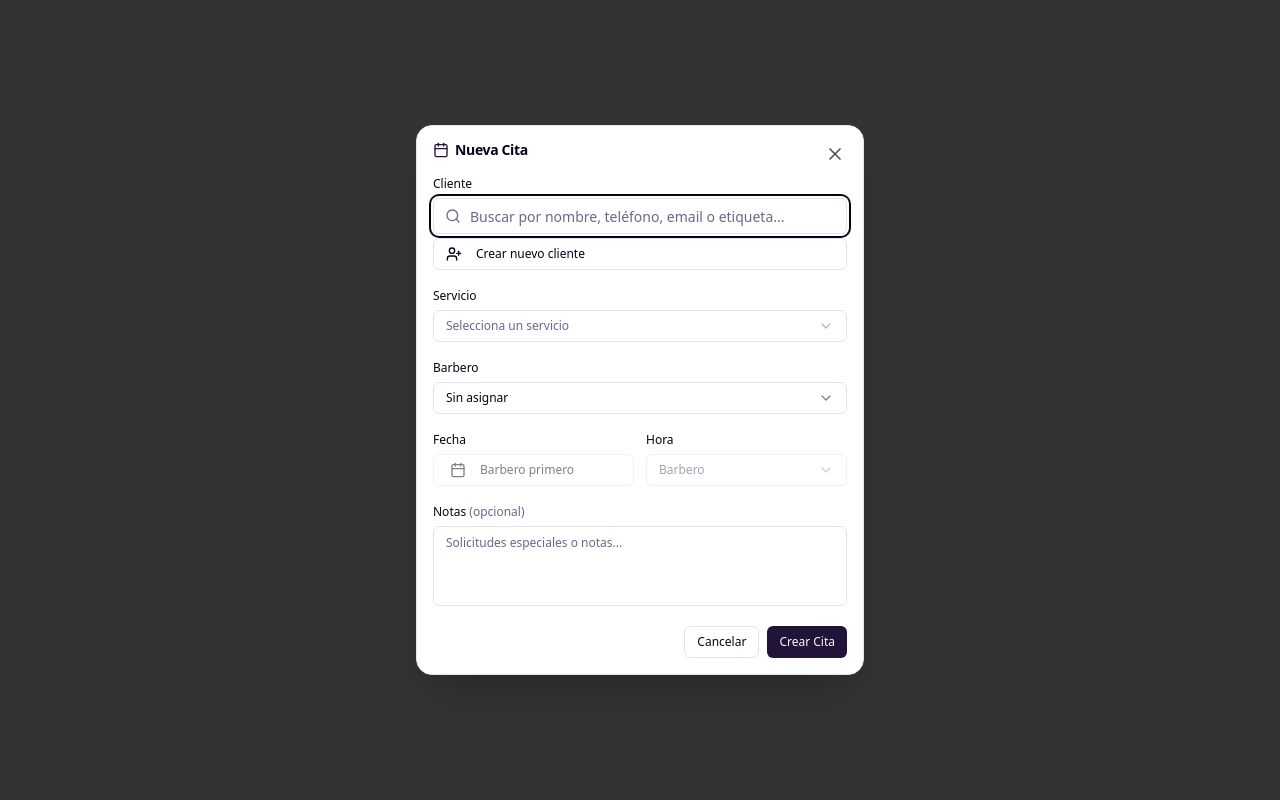
Test: BookingModal inline client creation › selects the existing client instead of creating a duplicate phone
Click the button "Crear nuevo cliente" at [530, 254], box [433,238,847,270]
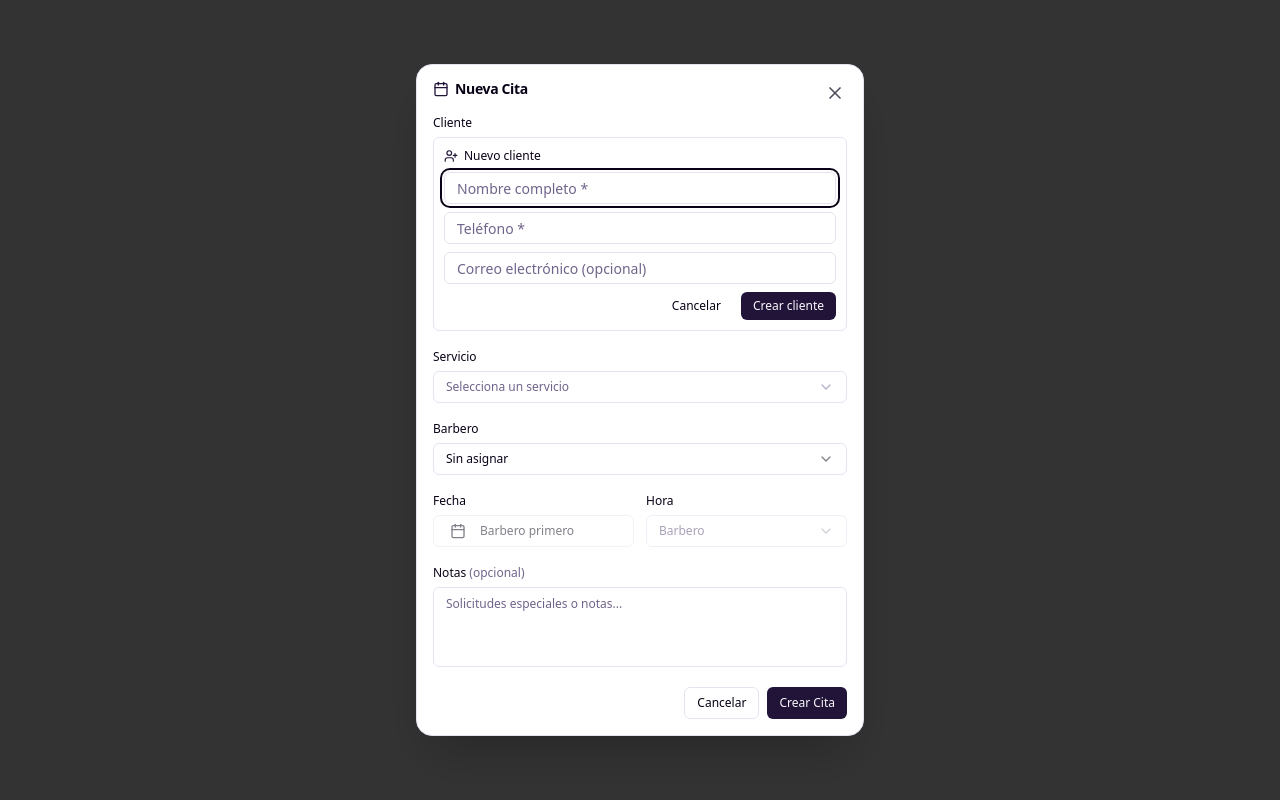
Type "Otro Miguel" into the field with placeholder "Nombre completo *" at [640, 188], box [444,172,836,204]
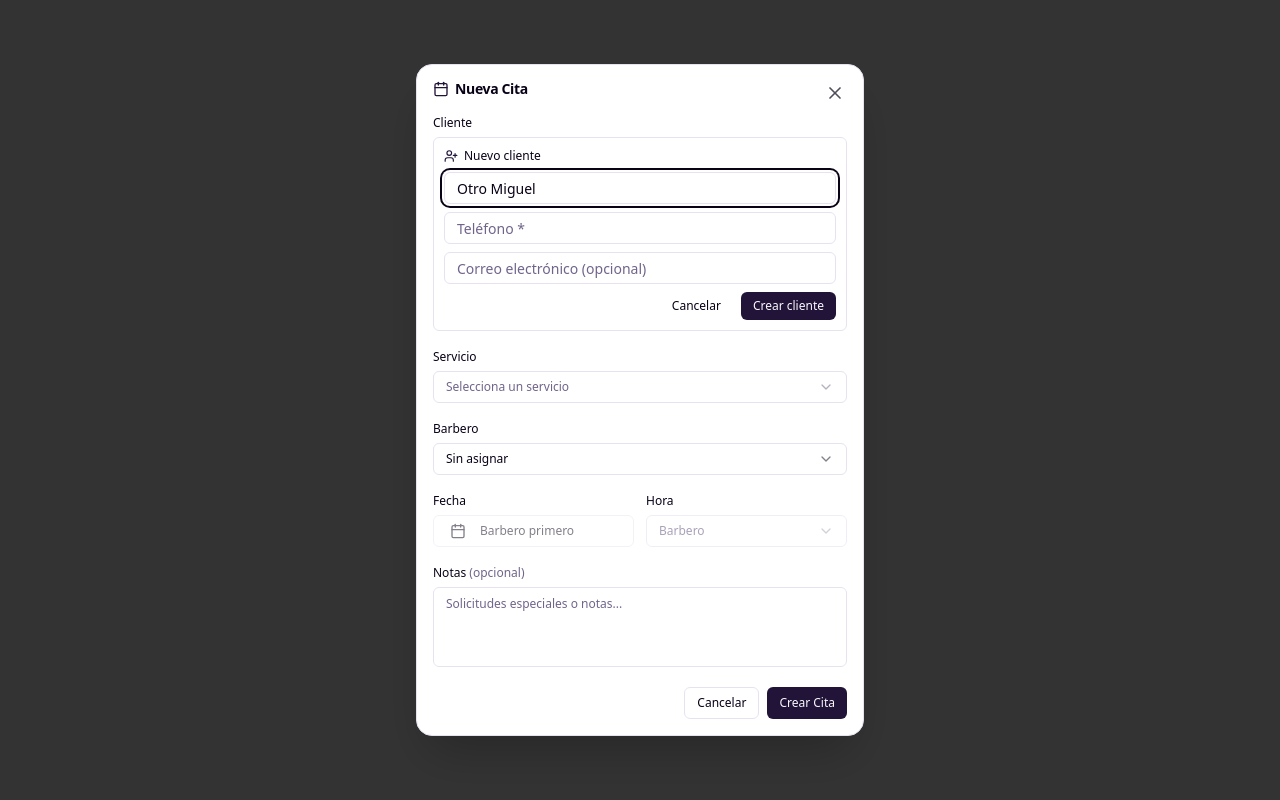
Type "615 481 969" into the field with placeholder "Teléfono *" at [640, 228], box [444,212,836,244]
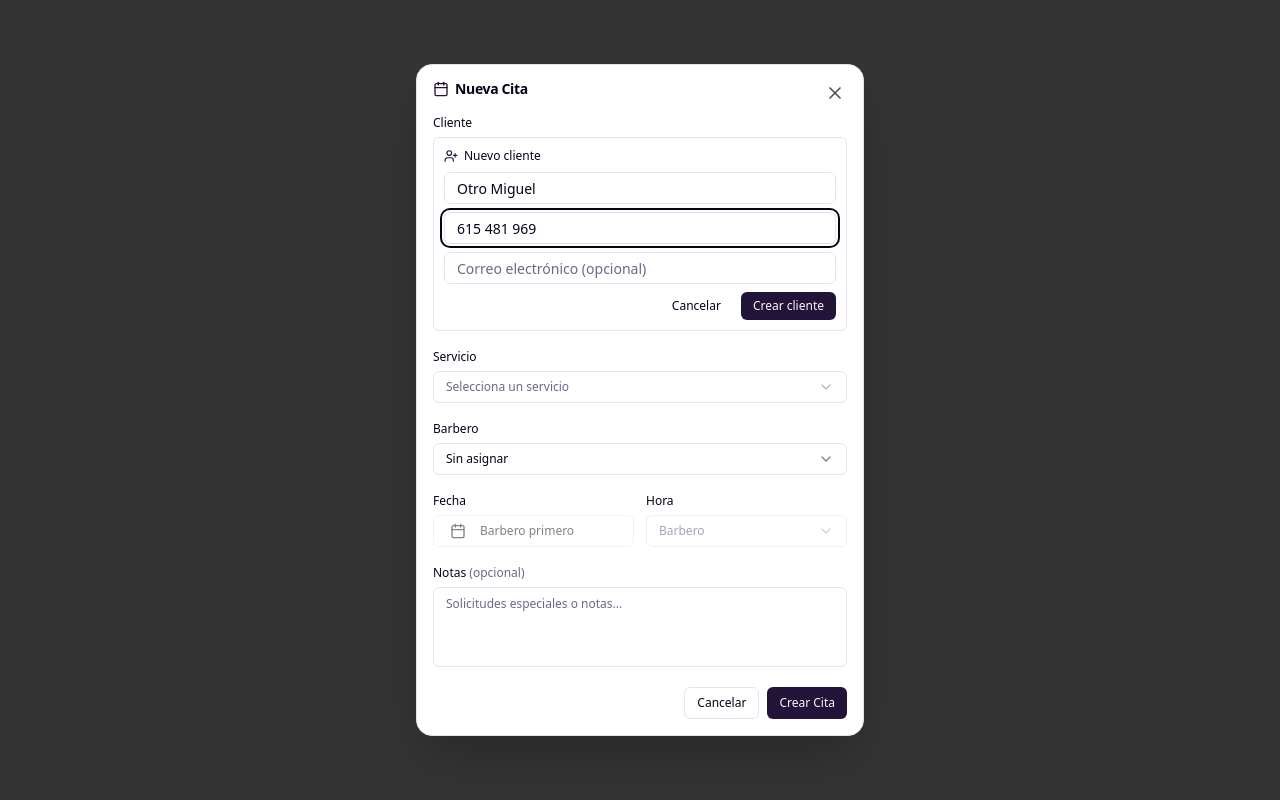
Click the button "Crear cliente" at [788, 306], box [741,292,836,320]
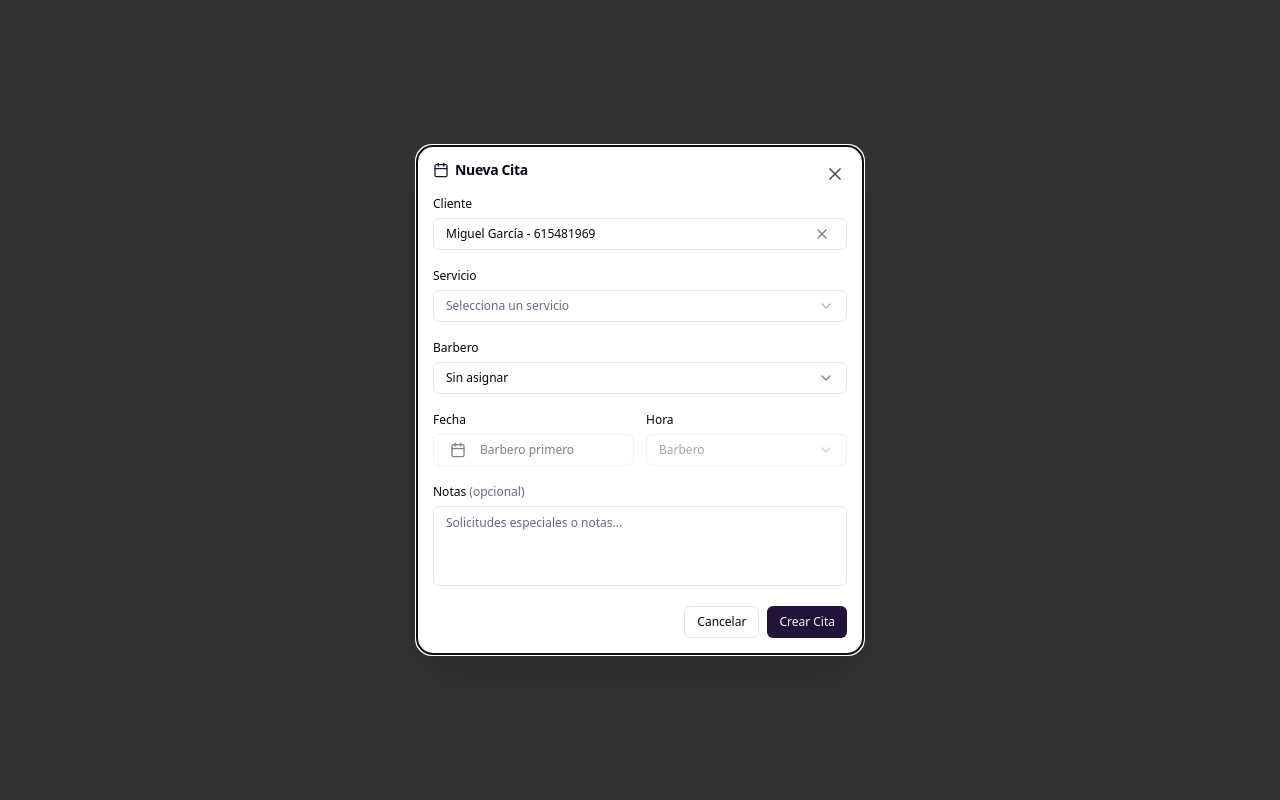
Expected: the text "Miguel García - 615481969" is shown, [446,226,595,242]
